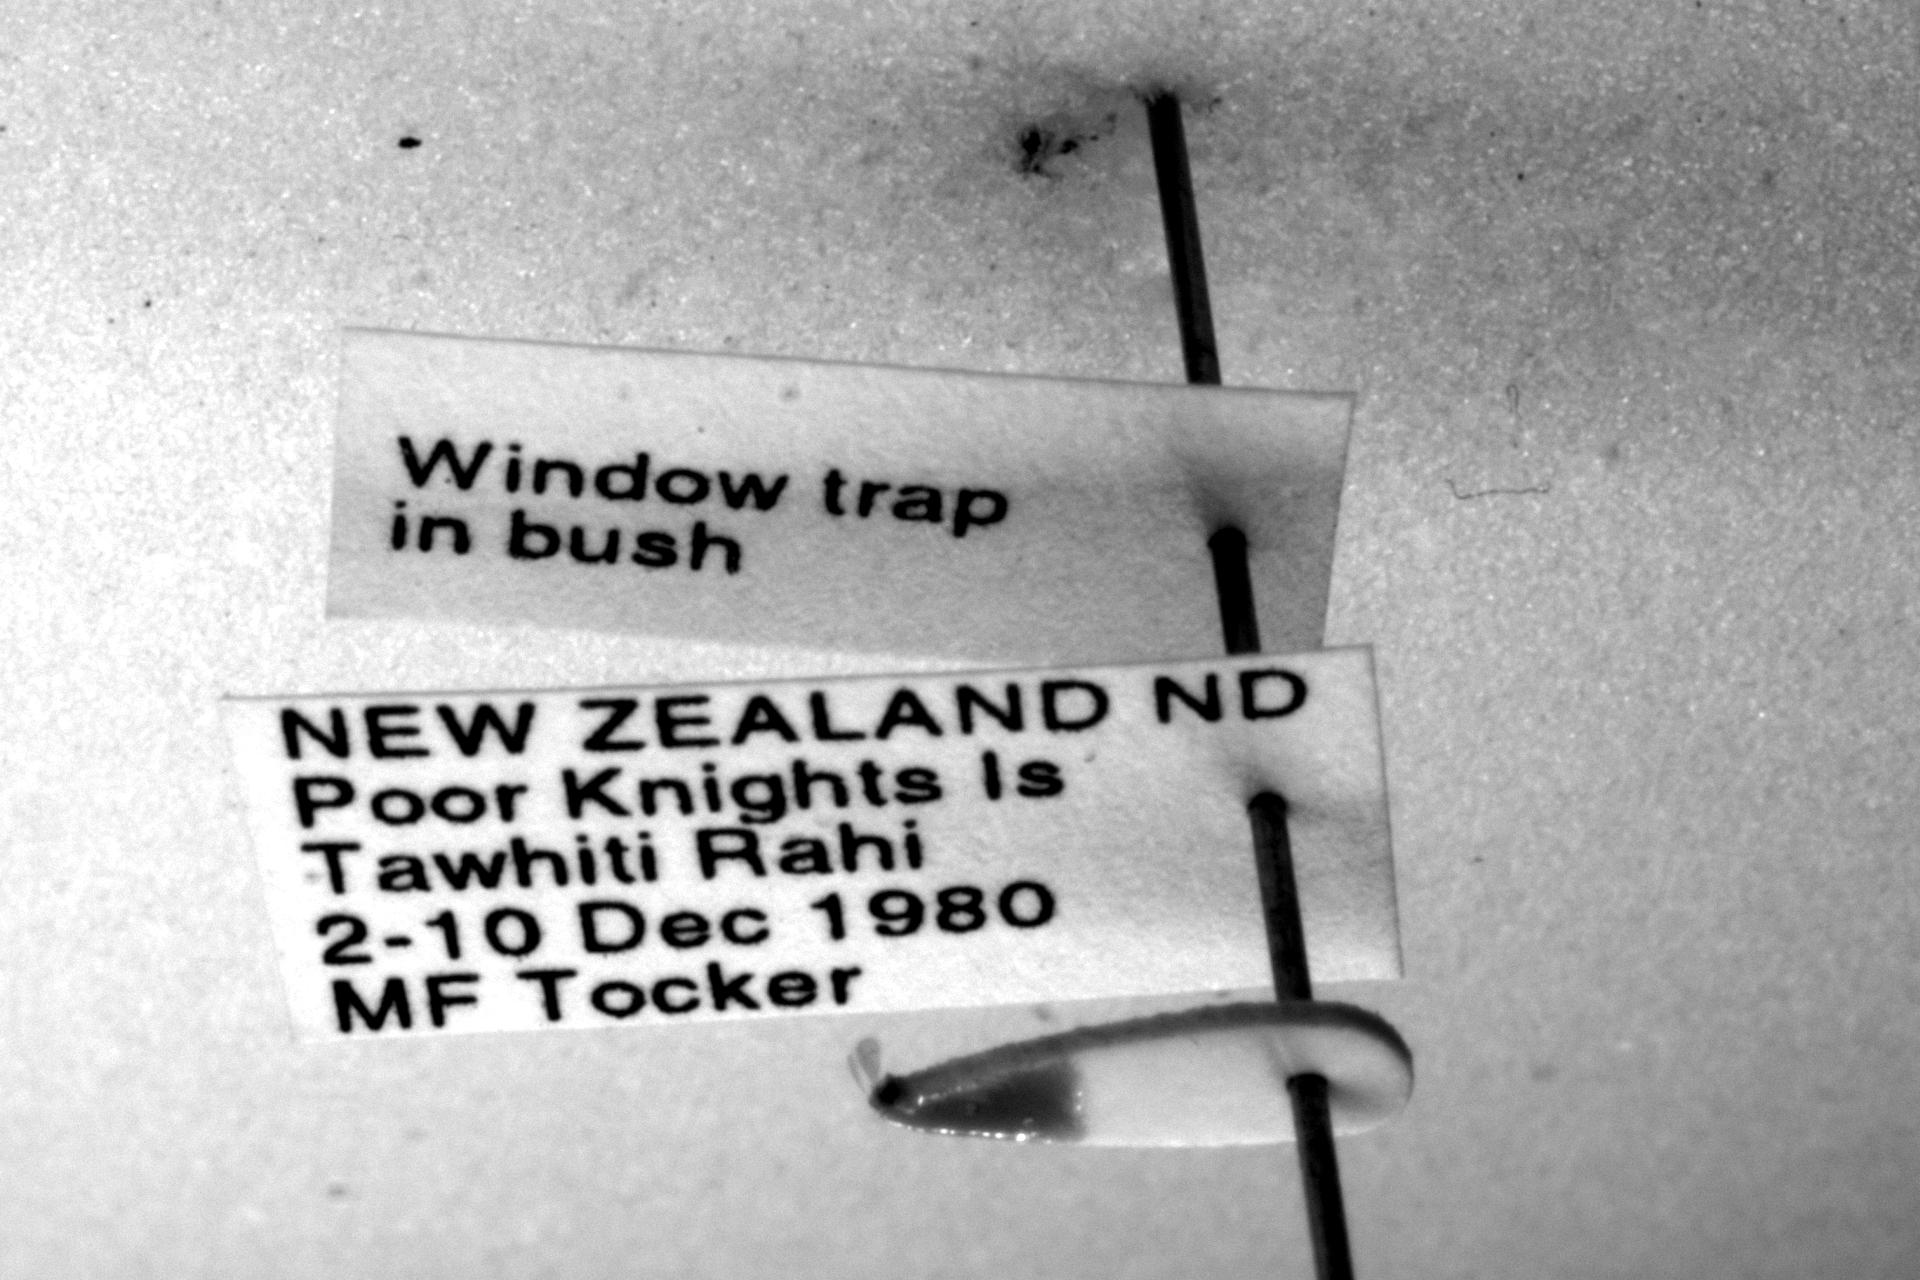typed_label: (226, 649, 1399, 1039), (326, 330, 1354, 664)
